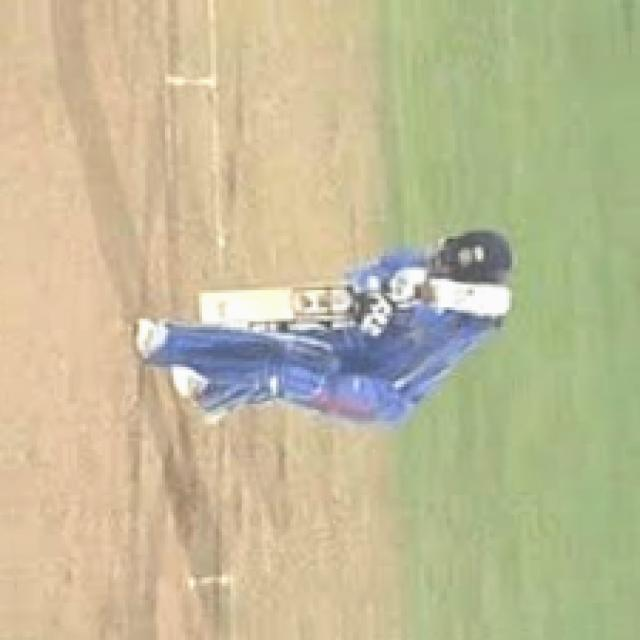bat: (195, 280, 363, 330)
toe: (190, 288, 210, 329)
